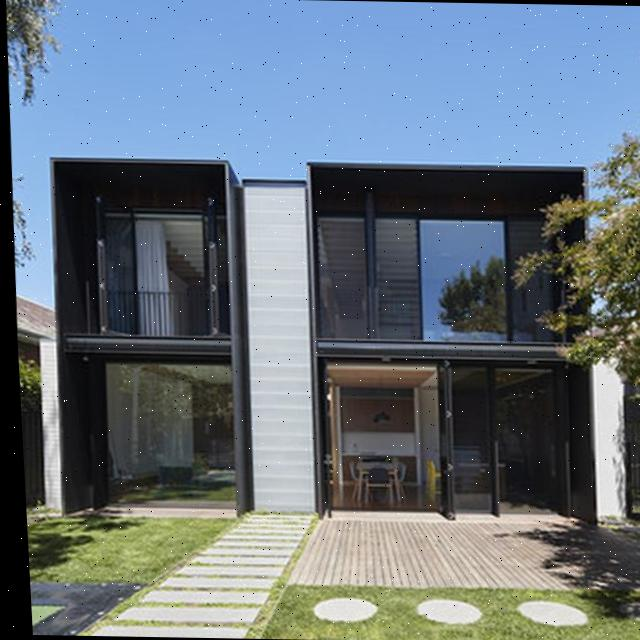building: (40, 150, 636, 528)
